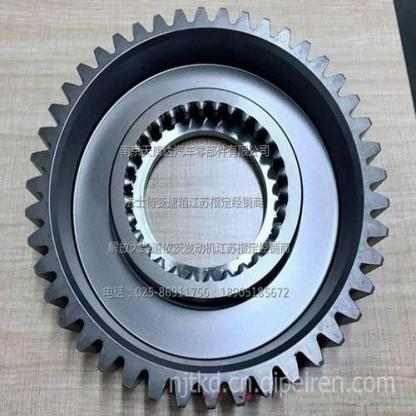FOD: (20, 1, 392, 414)
